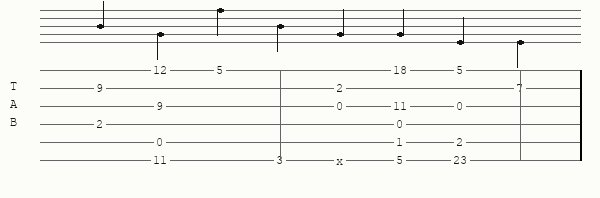0: (156, 136, 167, 148), (336, 100, 347, 112), (396, 118, 407, 130), (456, 100, 467, 112)
1: (396, 136, 407, 148)
11: (153, 154, 171, 166), (393, 100, 411, 112)
12: (153, 64, 171, 76)
18: (393, 64, 411, 76)
2: (96, 118, 107, 130), (336, 82, 347, 94), (456, 136, 467, 148)
23: (453, 154, 471, 166)
3: (276, 154, 287, 166)
5: (216, 64, 227, 76), (396, 154, 407, 166), (456, 64, 467, 76)
7: (516, 82, 527, 94)
9: (96, 82, 107, 94), (156, 100, 167, 112)
x: (336, 155, 347, 165)
